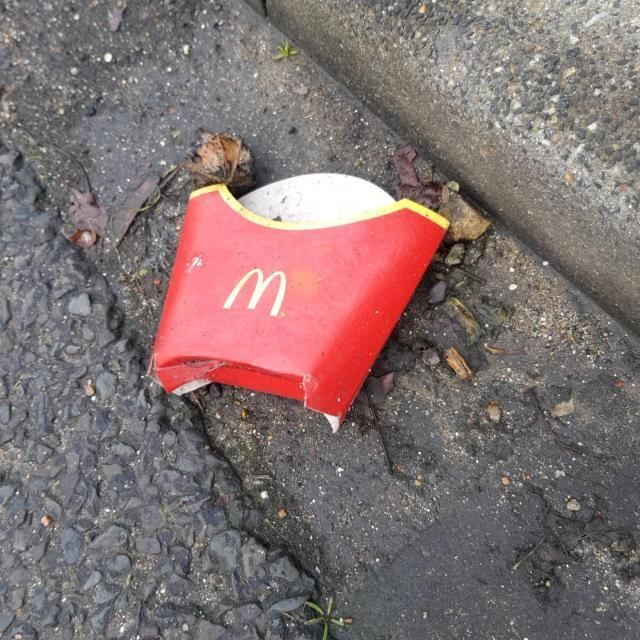Paper: (142, 168, 452, 436)
